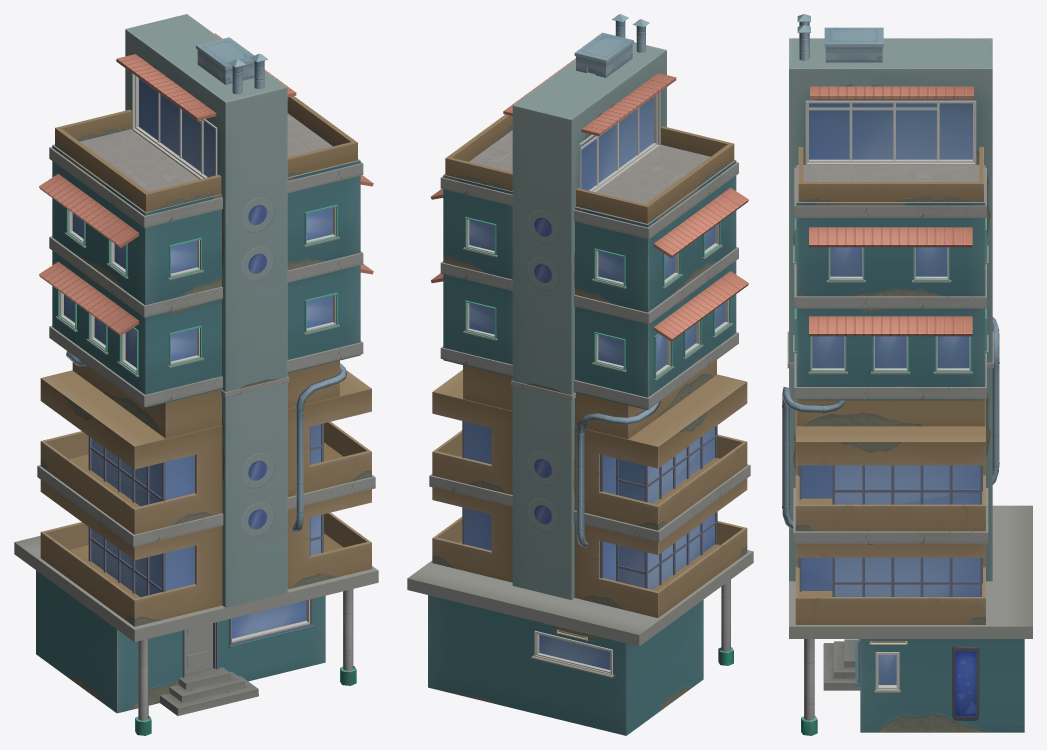
Rendered from Building_06_1_LOD2.fbx.
3 renders of one model, left to right at view 1: azimuth 30°, elevation 25°; view 2: azimuth 150°, elevation 25°; view 3: azimuth 270°, elevation 25°, orthographic. The views are drawn at different scales.
Parts seen in each view (by area): view 1: polySurface4240; view 2: polySurface4240; view 3: polySurface4240.
Part boxes in pixels (x1=…): polySurface4240: x1=14, y1=14, x2=378, y2=735; polySurface4240: x1=407, y1=14, x2=753, y2=735; polySurface4240: x1=782, y1=14, x2=1032, y2=735.
Size of the model in its own units: 980 by 2405 by 825.
